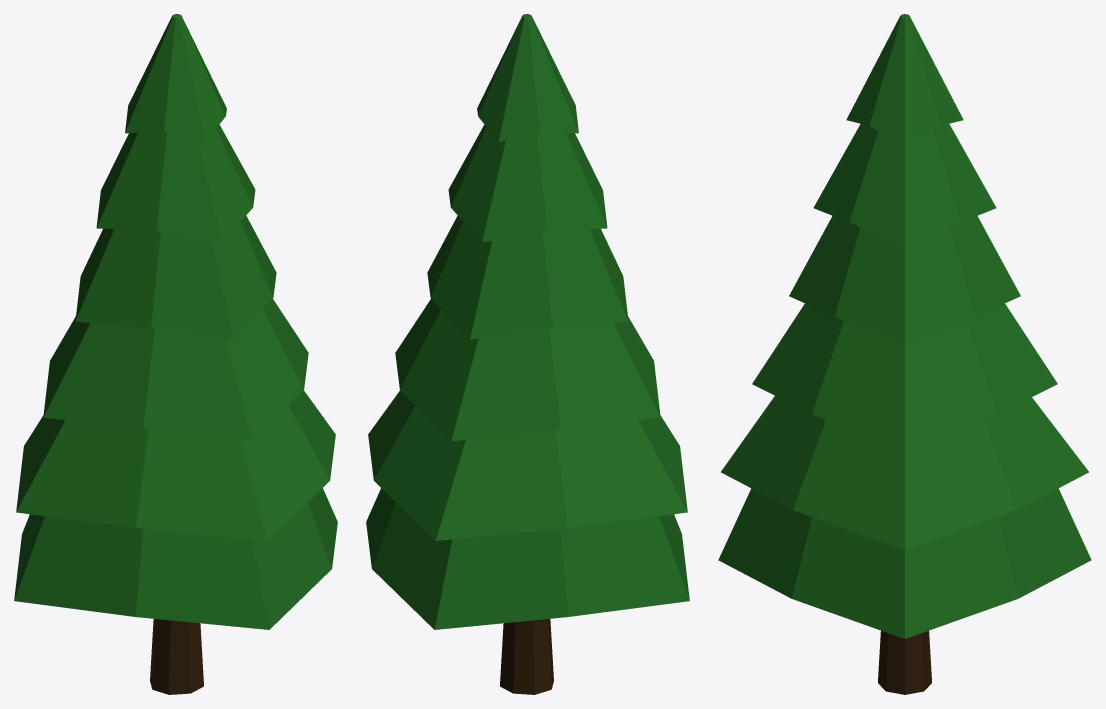
The model's file is Tree1.fbx.
The picture shows the model from 3 angles, left to right: view 1: azimuth 30°, elevation 25°; view 2: azimuth 150°, elevation 25°; view 3: azimuth 270°, elevation 25°; orthographic projection.
Parts seen in each view (by area): view 1: Tree1; view 2: Tree1; view 3: Tree1.
Part boxes in pixels (bbox=[...]): Tree1: bbox=[14, 14, 337, 694]; Tree1: bbox=[366, 14, 689, 694]; Tree1: bbox=[718, 14, 1091, 694].
Size of the model in its own units: 344 by 678 by 344.
